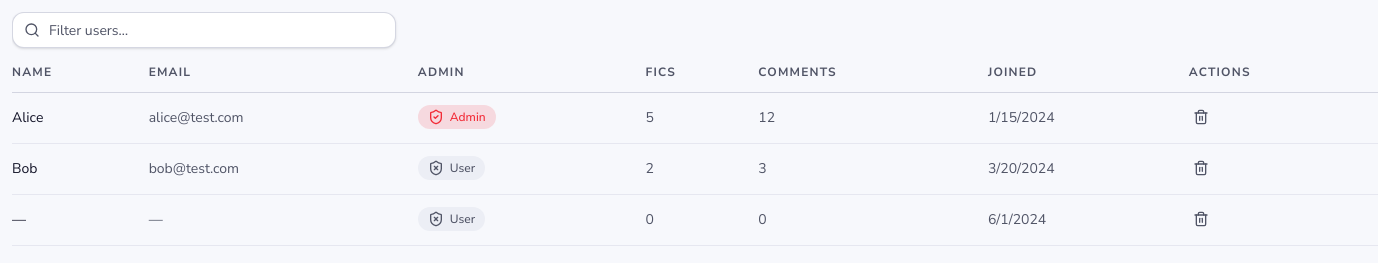
Scenario: UsersSection › filters users by client-side search
The image size is (1378, 263).
Expected: the link "Alice" is shown, [12,108,43,127]
Type "bob" into the field with placeholder "Filter users…" at (204, 30), box [12,12,396,48]
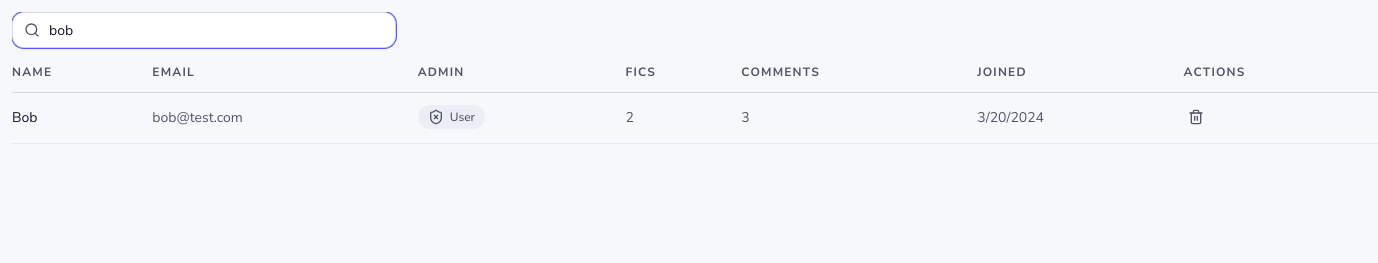
Expected: the link "Bob" is shown, [12,108,37,127]
Now the link "Alice" is gone
